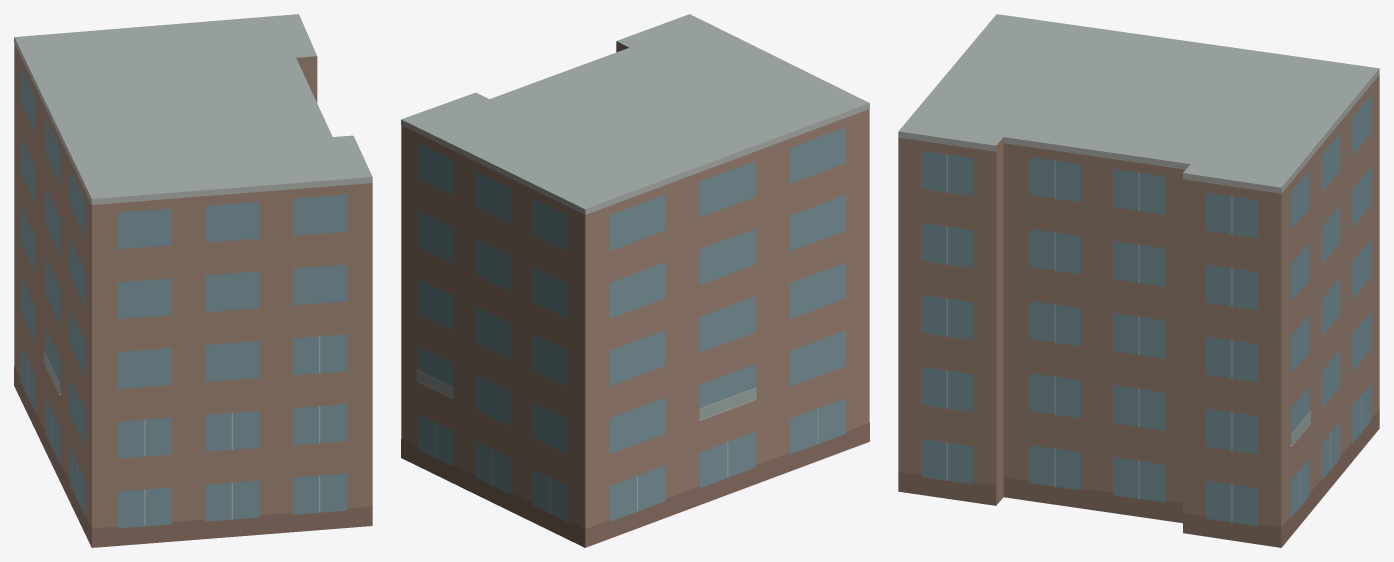
Rendered from survey-upis-32873520.glb.
3 views of the same model, side by side, from view 1: azimuth 30°, elevation 25°; view 2: azimuth 150°, elevation 25°; view 3: azimuth 270°, elevation 25° (orthographic). The views are drawn at different scales.
Parts seen in each view (by area): view 1: survey-upis-32873520.tmp; view 2: survey-upis-32873520.tmp; view 3: survey-upis-32873520.tmp.
Part boxes in pixels (box(x1,y1,x2,y2)): survey-upis-32873520.tmp: box(14, 14, 372, 547); survey-upis-32873520.tmp: box(401, 14, 869, 547); survey-upis-32873520.tmp: box(898, 14, 1379, 547).
Bounding box in the file's own units: 14.81 × 14.3 × 17.33.
